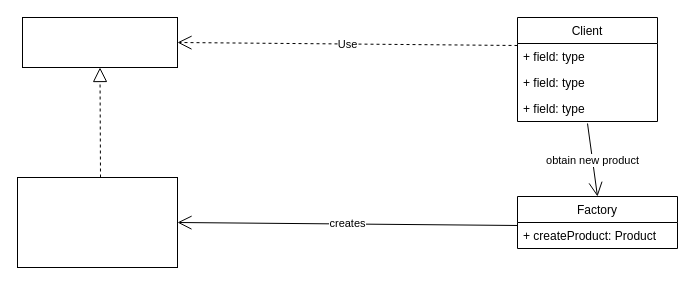
Some shapes in this 695 by 285 pixel diagram are drawn without their labels. Here are the shapes that lost their labels. From the top down, the centre of each, then its label:
At (100,42): "«interface» Product".
At (97,222): "ConcreteProduct".
